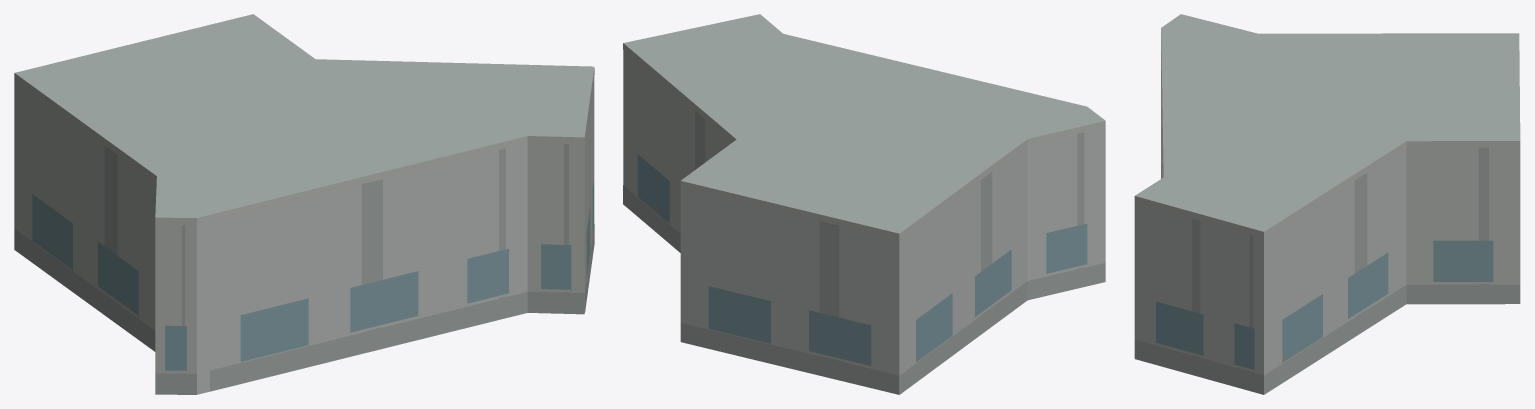
The model's file is survey-upis-33000491.glb.
The picture shows the model from 3 angles, left to right: view 1: azimuth 30°, elevation 25°; view 2: azimuth 150°, elevation 25°; view 3: azimuth 270°, elevation 25°; orthographic projection. The views are drawn at different scales.
Visible parts, largest first — view 1: survey-upis-33000491.tmp; view 2: survey-upis-33000491.tmp; view 3: survey-upis-33000491.tmp.
Part boxes in pixels (<box>): survey-upis-33000491.tmp: <box>14,14,594,394</box>; survey-upis-33000491.tmp: <box>623,14,1105,394</box>; survey-upis-33000491.tmp: <box>1134,14,1520,394</box>.
Bounding box in the file's own units: 17.49 × 6.1 × 13.09.
